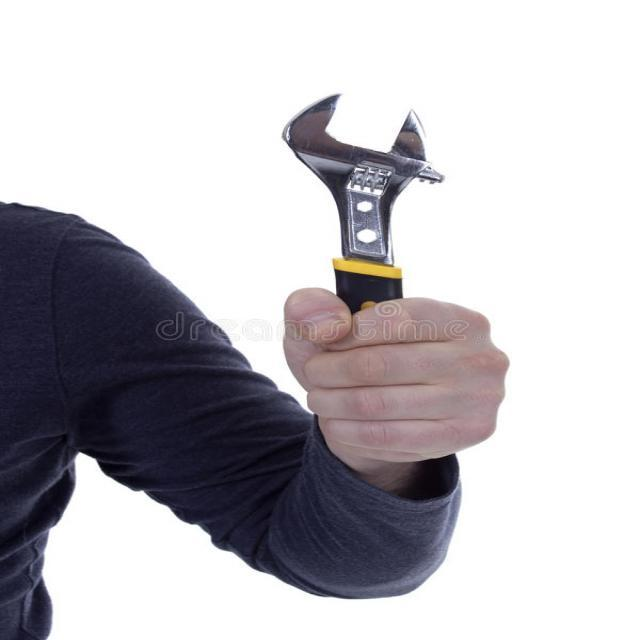wrench: (273, 88, 447, 314)
